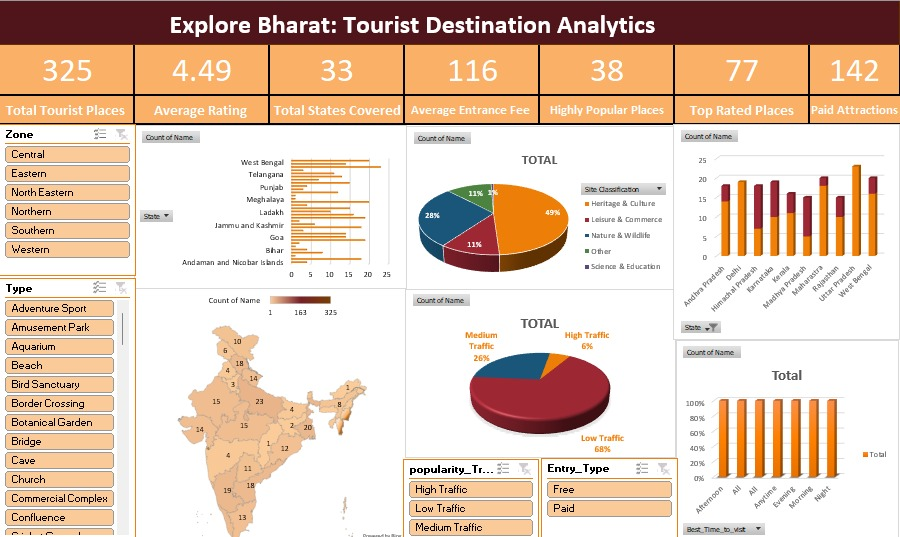

This screenshot's page, from the dashboard's own definition file:
{"tool":"powerbi","page":{"name":"Tourism Overview ","canvas":[1730,1030],"ordinal":1},"visuals":[{"type":"shape","box":[0,0,1730.3,1029.2],"z":0},{"type":"shape","box":[9.6,88,1720.7,941.2],"z":1000},{"type":"shape","box":[240.1,100.8,1067.6,219.3],"z":2000,"group":"g2"},{"type":"shape","box":[1320.5,100.8,389,909.2],"z":2000},{"type":"shape","box":[0,88,216.1,941.2],"z":3000,"group":"g1"},{"type":"clusteredBarChart","title":"Top 10 States by Tourist Attractions","fields":{"Category":["Cleaned Dataset.State"],"Y":["CountNonNull(Cleaned Dataset.Name)"]},"box":[1332.4,551.5,363.9,447.3],"z":3000},{"type":"actionButton","box":[12.8,228.8,190.5,57.6],"z":4000,"group":"g1"},{"type":"shape","box":[240.1,337.7,1067.6,672.3],"z":4000},{"type":"barChart","title":"Top 5 Tourist Attraction Types","fields":{"Category":["Cleaned Dataset.Type"],"Y":["CountNonNull(Cleaned Dataset.Name)"]},"box":[1332.4,117.5,365.8,420.7],"z":5000},{"type":"actionButton","box":[16,299.2,187.3,67.2],"z":5000,"group":"g1"},{"type":"donutChart","title":"Tourist Attractions by Entry Type","fields":{"Category":["Cleaned Dataset.Entry_Type"],"Y":["CountNonNull(Cleaned Dataset.Name)"]},"box":[705,352.5,591.3,293.8],"z":6000},{"type":"actionButton","box":[12.8,379.3,190.5,60.8],"z":6000,"group":"g1"},{"type":"map","title":"Tourist Attractions Across India","fields":{"Category":["Cleaned Dataset.State"],"Size":["CountNonNull(Cleaned Dataset.Name)"]},"box":[252.9,352.1,437,646.7],"z":7000},{"type":"shape","box":[0.5,457.8,216.1,134.5],"z":7000,"group":"g1"},{"type":"textbox","box":[0,483.3,230.5,41.6],"z":8000,"group":"g1"},{"type":"funnel","title":"Zone-wise Distribution of Tourist Attractions","fields":{"Category":["Cleaned Dataset.Zone"],"Y":["CountNonNull(Cleaned Dataset.Name)"]},"box":[705.9,659.5,590.6,336.1],"z":8000},{"type":"group","id":"g1","title":"Group 1","box":[0,88,230.5,941.2],"z":9000},{"type":"slicer","fields":{"Values":["Cleaned Dataset.State"]},"box":[0.1,552.2,214.5,80],"z":9000,"group":"g1"},{"type":"group","id":"g2","title":"Group 2","box":[240.1,100.8,1067.6,219.3],"z":10000},{"type":"slicer","fields":{"Values":["Cleaned Dataset.Type"]},"box":[0.1,659.4,216.1,73.6],"z":10000,"group":"g1"},{"type":"group","id":"g3","title":"Group 3","box":[240.1,11.2,1469.4,76.8],"z":11000},{"type":"slicer","fields":{"Values":["Cleaned Dataset.Zone"]},"box":[0,749.1,214.5,78.4],"z":11000,"group":"g1"},{"type":"textbox","box":[240.1,11.2,1120.5,76.8],"z":12000,"group":"g3"},{"type":"slicer","fields":{"Values":["Cleaned Dataset.Star_rating"]},"box":[0,858,211.3,97.6],"z":12000},{"type":"textbox","box":[1307.7,11.2,401.8,76.8],"z":13000,"group":"g3"},{"type":"image","box":[0,27.2,220.9,180.9],"z":13000},{"type":"shape","box":[1272.5,11.2,48,65.6],"z":14000,"group":"g3"},{"type":"cardVisual","fields":{"Data":["Cleaned Dataset.Total Tourist Places"]},"box":[270.5,168,177.7,126.5],"z":15000,"group":"g2"},{"type":"cardVisual","fields":{"Data":["Cleaned Dataset.Total States Covered"]},"box":[470.6,168,195.3,126.5],"z":16000,"group":"g2"},{"type":"cardVisual","fields":{"Data":["Cleaned Dataset.Average Rating"]},"box":[681.9,168,163.3,126.5],"z":17000,"group":"g2"},{"type":"cardVisual","fields":{"Data":["Cleaned Dataset.Top Rated Places"]},"box":[864.4,168,192.1,126.5],"z":18000,"group":"g2"},{"type":"cardVisual","fields":{"Data":["Cleaned Dataset.Average Entry Fee"]},"box":[1080.4,168,192.1,126.5],"z":19000,"group":"g2"},{"type":"image","box":[328.1,120,64,67.2],"z":20000,"group":"g2"},{"type":"image","box":[529.8,123.2,78.4,64],"z":21000,"group":"g2"},{"type":"image","box":[728.3,118.4,68.8,68.8],"z":22000,"group":"g2"},{"type":"image","box":[925.2,123.2,70.4,64],"z":23000,"group":"g2"},{"type":"image","box":[1141.3,118.4,70.4,68.8],"z":24000,"group":"g2"}]}

Visuals, with their boxes in screenshot pixels (x1, y1, x2, y2), scaled from the page's 1730x1030 canvas onto the 900x537 screenshot:
shape: locate(0, 0, 899, 536)
shape: locate(5, 46, 899, 536)
shape: locate(125, 53, 680, 167)
shape: locate(687, 53, 889, 527)
shape: locate(0, 46, 112, 536)
"Top 10 States by Tourist Attractions" clusteredBarChart: locate(693, 288, 882, 521)
actionButton: locate(7, 119, 106, 149)
shape: locate(125, 176, 680, 527)
"Top 5 Tourist Attraction Types" barChart: locate(693, 61, 883, 281)
actionButton: locate(8, 156, 106, 191)
"Tourist Attractions by Entry Type" donutChart: locate(367, 184, 674, 337)
actionButton: locate(7, 198, 106, 229)
"Tourist Attractions Across India" map: locate(132, 184, 359, 521)
shape: locate(0, 239, 113, 309)
textbox: locate(0, 252, 120, 274)
"Zone-wise Distribution of Tourist Attractions" funnel: locate(367, 344, 674, 519)
"Group 1" group: locate(0, 46, 120, 536)
slicer - Cleaned Dataset.State: locate(0, 288, 112, 330)
"Group 2" group: locate(125, 53, 680, 167)
slicer - Cleaned Dataset.Type: locate(0, 344, 112, 382)
"Group 3" group: locate(125, 6, 889, 46)
slicer - Cleaned Dataset.Zone: locate(0, 391, 112, 431)
textbox: locate(125, 6, 708, 46)
slicer - Cleaned Dataset.Star_rating: locate(0, 447, 110, 498)
textbox: locate(680, 6, 889, 46)
image: locate(0, 14, 115, 108)
shape: locate(662, 6, 687, 40)
cardVisual - Cleaned Dataset.Total Tourist Places: locate(141, 88, 233, 154)
cardVisual - Cleaned Dataset.Total States Covered: locate(245, 88, 346, 154)
cardVisual - Cleaned Dataset.Average Rating: locate(355, 88, 440, 154)
cardVisual - Cleaned Dataset.Top Rated Places: locate(450, 88, 550, 154)
cardVisual - Cleaned Dataset.Average Entry Fee: locate(562, 88, 662, 154)
image: locate(171, 63, 204, 98)
image: locate(276, 64, 316, 98)
image: locate(379, 62, 415, 98)
image: locate(481, 64, 518, 98)
image: locate(594, 62, 630, 98)
